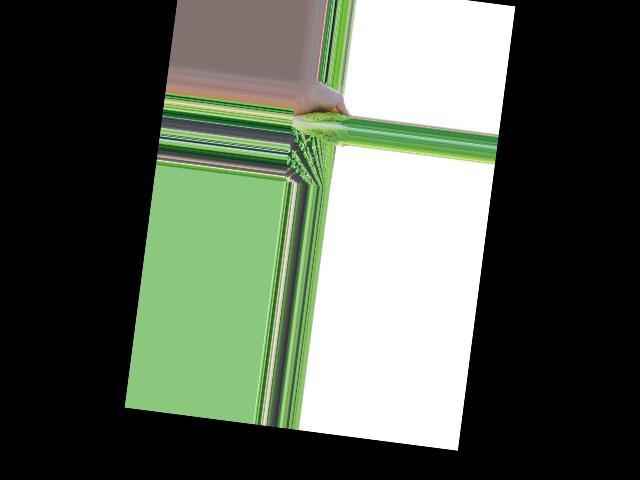lettuce: (289, 108, 350, 145)
